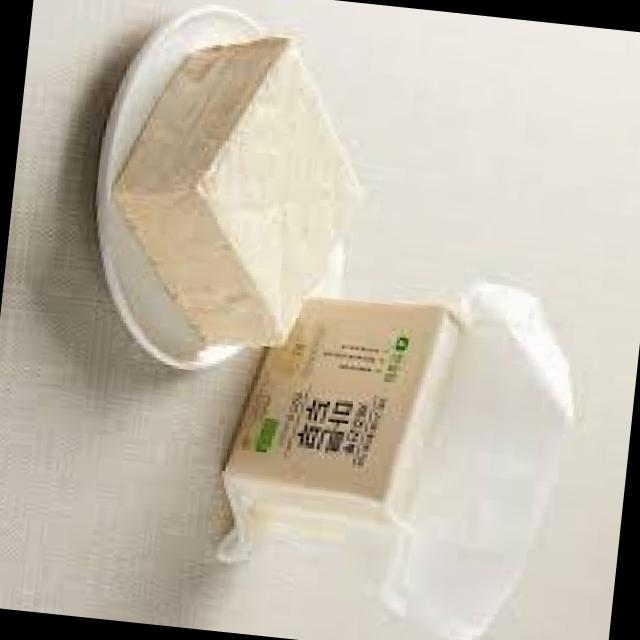tof: (98, 5, 375, 374)
